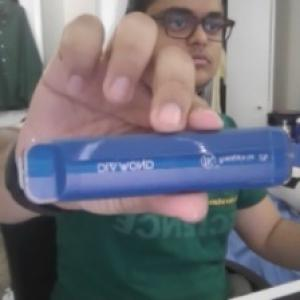Diamond-E-Ciggirate: (15, 120, 294, 209)
